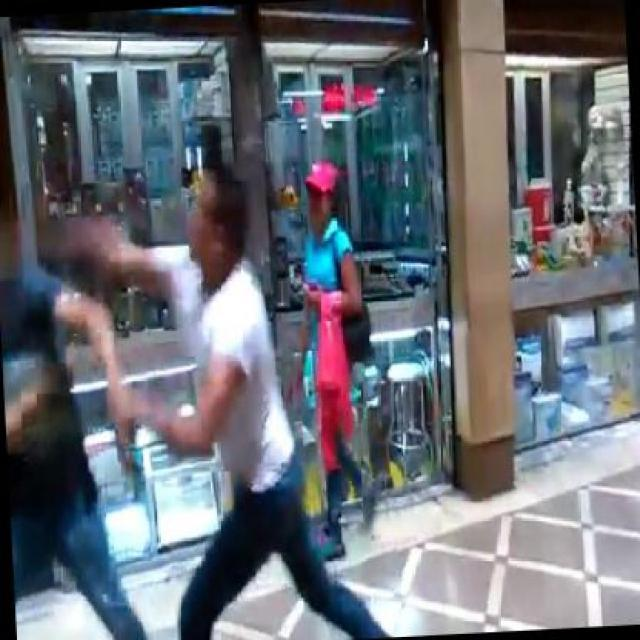fight: (0, 146, 309, 639)
